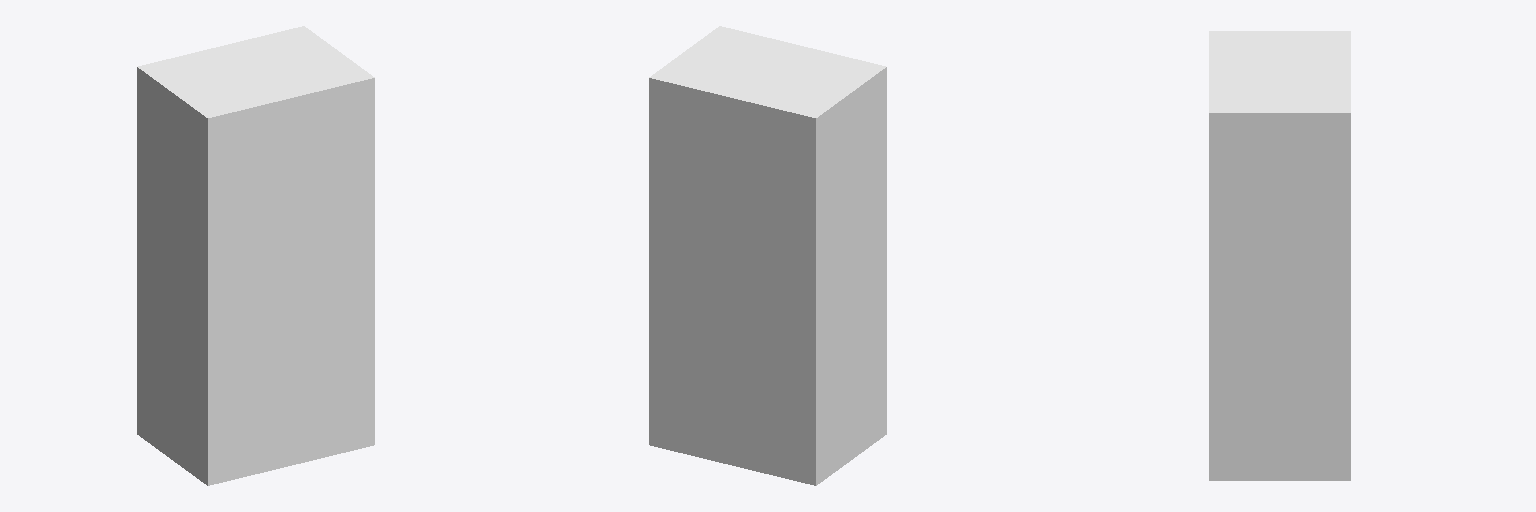
The model's file is building01.obj.
The picture shows the model from 3 angles: view 1: azimuth 30°, elevation 25°; view 2: azimuth 150°, elevation 25°; view 3: azimuth 270°, elevation 25°; orthographic projection.
Bounding box in the file's own units: 60 × 126 × 44.